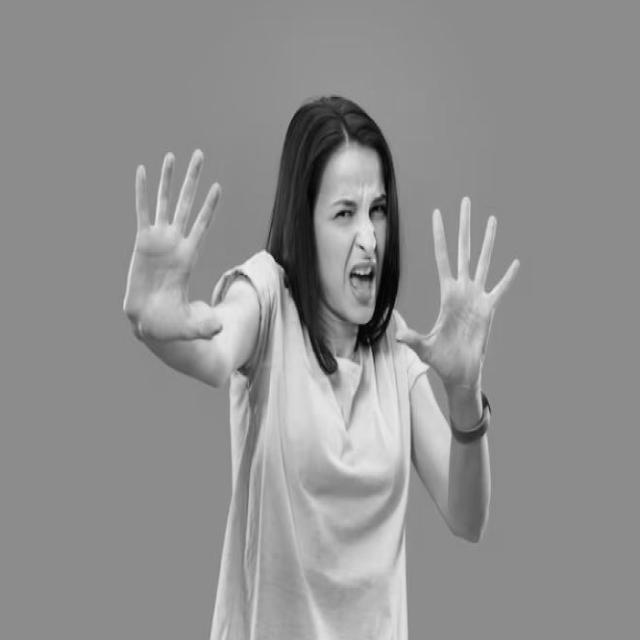stop: (391, 190, 523, 401), (120, 142, 227, 353)
